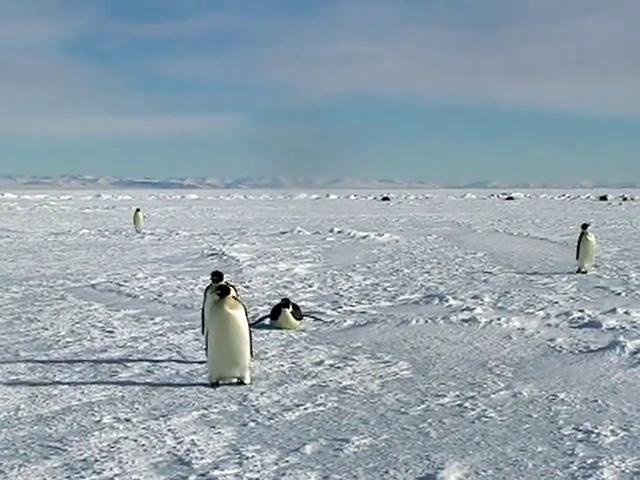animal: (251, 299, 322, 330)
